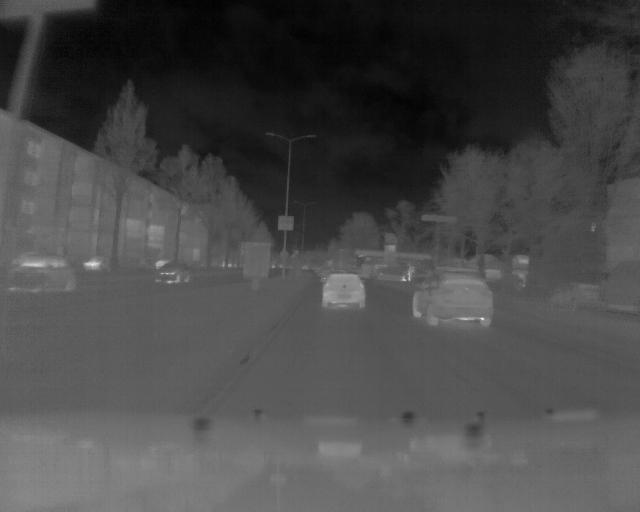car: (408, 271, 496, 333), (4, 250, 80, 298), (320, 274, 369, 311), (153, 263, 193, 286)
